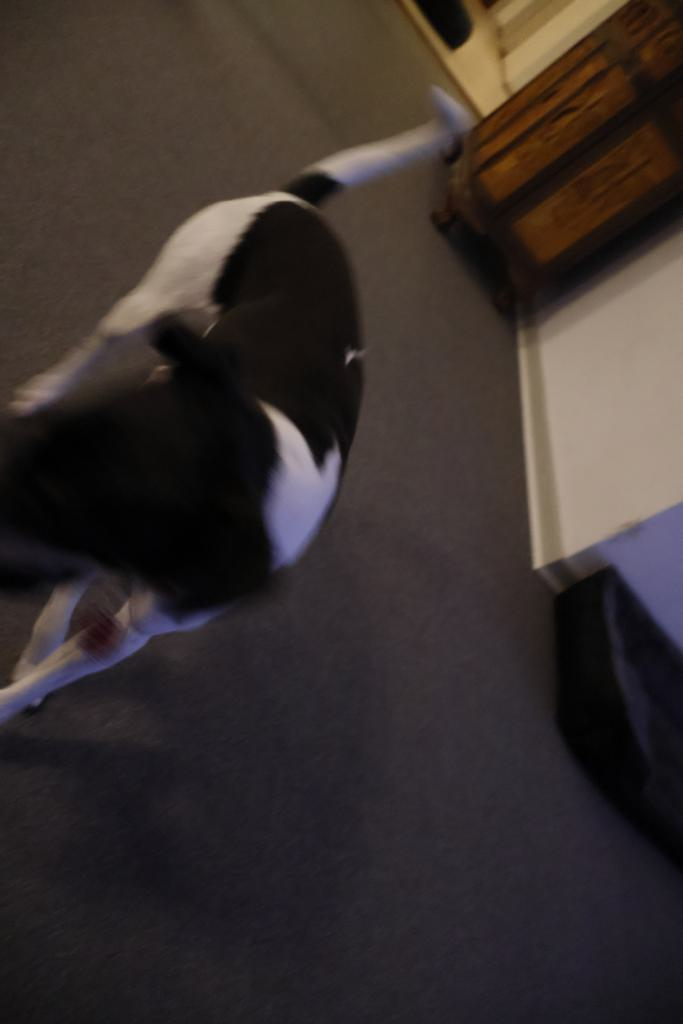Dog: (0, 75, 486, 736)
